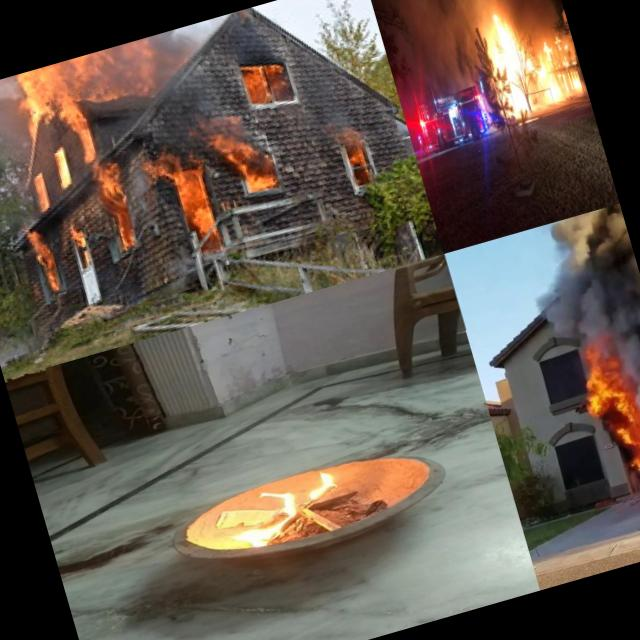fire: (200, 459, 367, 567), (565, 331, 640, 483), (15, 54, 110, 154), (478, 10, 556, 126), (94, 162, 147, 255), (536, 29, 584, 103), (172, 163, 216, 230), (25, 228, 66, 298), (234, 146, 284, 198), (134, 150, 184, 192), (207, 125, 253, 165), (240, 58, 270, 98), (30, 173, 54, 211), (345, 139, 370, 171), (66, 222, 92, 250), (0, 150, 11, 184)
smoke: (517, 208, 635, 356), (390, 0, 485, 97), (599, 204, 640, 428), (88, 27, 198, 106), (0, 75, 37, 182), (559, 5, 589, 99), (322, 107, 363, 147), (447, 0, 509, 25), (527, 0, 565, 37)
